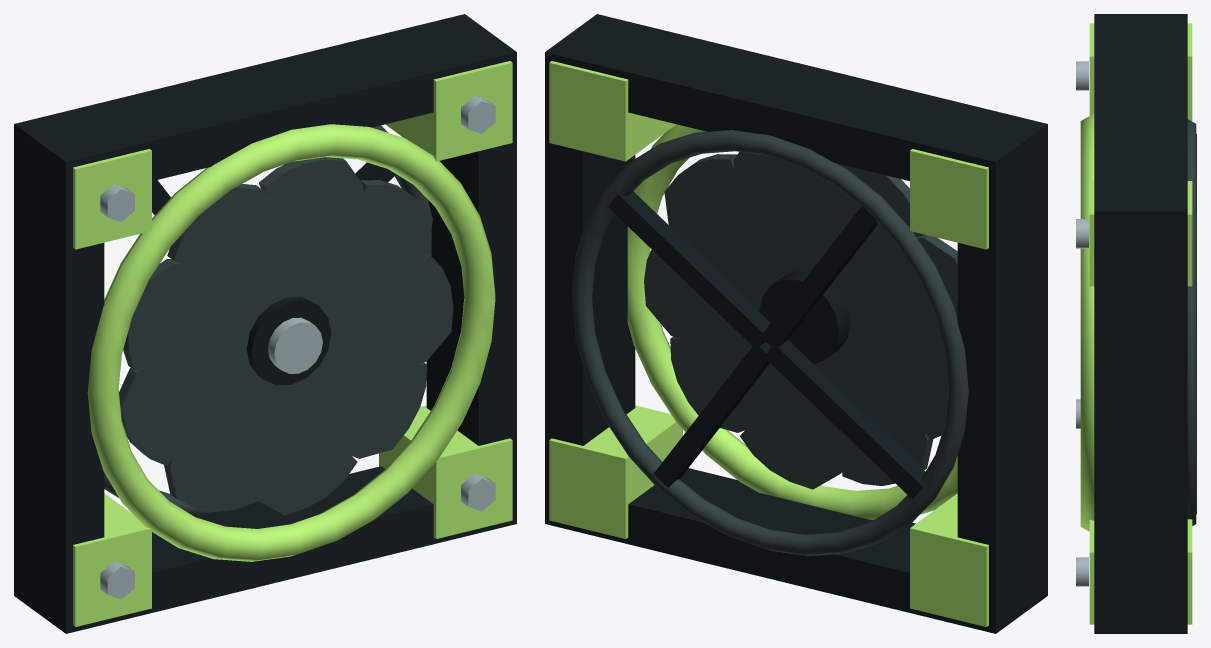
The model's file is fan-airflow-120.glb.
3 renders of one model, left to right at view 1: azimuth 30°, elevation 25°; view 2: azimuth 150°, elevation 25°; view 3: azimuth 270°, elevation 25°, orthographic. The views are drawn at different scales.
Parts seen in each view (by area): view 1: Rubber and ABS (×2), Anodized graphite, Lime accents, fan-rotor, Brushed aluminium, fan-airflow-120; view 2: Rubber and ABS (×2), Anodized graphite, Lime accents, fan-airflow-120, fan-rotor; view 3: Rubber and ABS (×2), Lime accents, fan-airflow-120, Brushed aluminium.
Part boxes in pixels (left/top/right/bottom): Rubber and ABS (×2): left=14, top=14, right=516, bottom=633; Anodized graphite: left=119, top=157, right=453, bottom=515; Lime accents: left=73, top=61, right=512, bottom=626; fan-rotor: left=246, top=297, right=331, bottom=385; Brushed aluminium: left=100, top=96, right=495, bottom=599; fan-airflow-120: left=104, top=125, right=431, bottom=515; Rubber and ABS (×2): left=545, top=14, right=1047, bottom=633; Anodized graphite: left=644, top=152, right=957, bottom=489; Lime accents: left=549, top=61, right=988, bottom=626; fan-airflow-120: left=572, top=130, right=968, bottom=555; fan-rotor: left=759, top=271, right=850, bottom=364; Rubber and ABS (×2): left=1094, top=14, right=1196, bottom=633; Lime accents: left=1080, top=23, right=1192, bottom=624; fan-airflow-120: left=1187, top=119, right=1196, bottom=525; Brushed aluminium: left=1076, top=61, right=1088, bottom=586.
Bounding box in the file's own units: 1 × 1 × 0.259.
